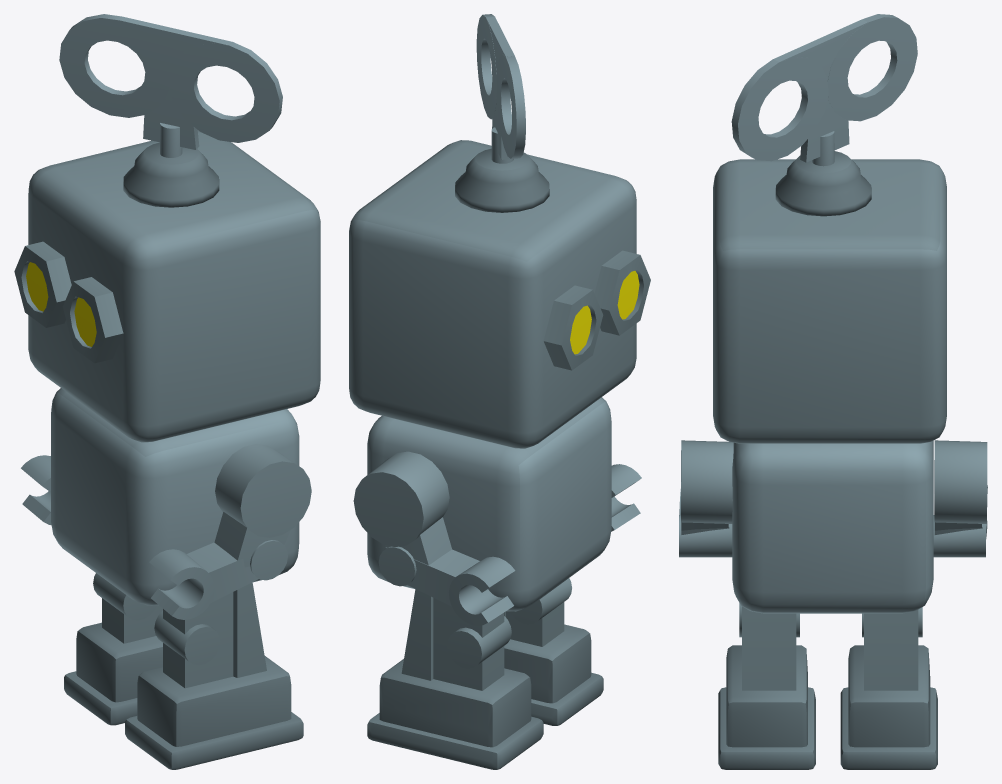
The model's file is Robot.fbx.
3 renders of one model, left to right at view 1: azimuth 30°, elevation 25°; view 2: azimuth 150°, elevation 25°; view 3: azimuth 270°, elevation 25°, orthographic.
Parts seen in each view (by area): view 1: Cabeza, Torso, Palanca, Pie_L, Brazo_L_1, Pierna_L, Pie_R, Brazo_L, Mano_L, Pierna_R, Mano_R; view 2: Cabeza, Torso, Pie_R, Hombro_R, Pierna_R, Pie_L, Palanca, Codo_R, Mano_R, Pierna_L, Mano_L; view 3: Cabeza, Torso, Palanca, Pie_R, Pie_L, Hombro_R, Brazo_L_1, Pierna_L, Pierna_R, Brazo_L, Codo_R.
Part boxes in pixels (<box>): Cabeza: <box>14,130,320,442</box>; Torso: <box>51,388,299,605</box>; Palanca: <box>59,14,282,157</box>; Pie_L: <box>125,656,303,769</box>; Brazo_L_1: <box>214,444,311,567</box>; Pierna_L: <box>154,582,266,688</box>; Pie_R: <box>64,622,162,725</box>; Brazo_L: <box>187,540,287,602</box>; Mano_L: <box>149,549,214,619</box>; Pierna_R: <box>93,573,162,643</box>; Mano_R: <box>21,455,51,525</box>; Cabeza: <box>349,140,650,448</box>; Torso: <box>367,397,611,611</box>; Pie_R: <box>367,659,543,769</box>; Hombro_R: <box>353,451,451,565</box>; Pierna_R: <box>401,589,511,690</box>; Pie_L: <box>504,624,603,725</box>; Palanca: <box>476,14,525,163</box>; Codo_R: <box>378,546,479,606</box>; Mano_R: <box>448,556,515,625</box>; Pierna_L: <box>504,578,571,646</box>; Mano_L: <box>611,464,641,531</box>; Cabeza: <box>713,151,946,443</box>; Torso: <box>732,440,933,613</box>; Palanca: <box>731,14,917,166</box>; Pie_R: <box>840,645,937,769</box>; Pie_L: <box>718,645,815,769</box>; Hombro_R: <box>934,440,987,530</box>; Brazo_L_1: <box>681,440,733,530</box>; Pierna_L: <box>739,603,799,690</box>; Pierna_R: <box>862,607,922,690</box>; Brazo_L: <box>679,515,732,557</box>; Codo_R: <box>933,515,985,557</box>.
Size of the model in its own units: 3.33 by 10.41 by 4.18.
